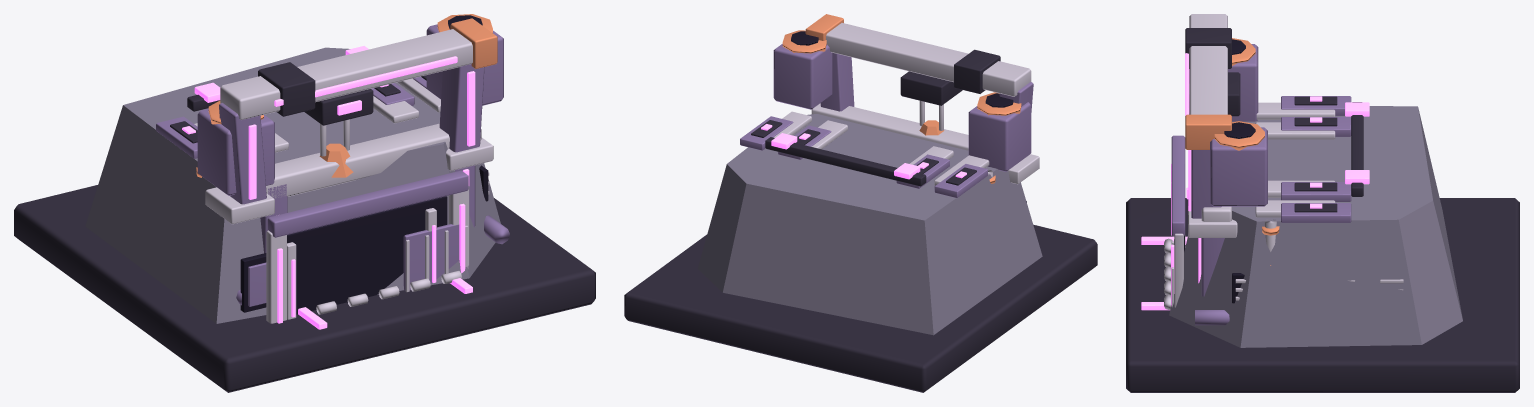
File: vesper-factory.glb
3 renders of one model, left to right at view 1: azimuth 30°, elevation 25°; view 2: azimuth 150°, elevation 25°; view 3: azimuth 270°, elevation 25°, orthographic. The views are drawn at different scales.
Visible parts, largest first — view 1: Vesper factory skid, Asymmetric assembly hall, Open fabrication gantry, Gantry leg, Vehicle bay recess, Gantry violet rail, Hot exhaust collar; view 2: Asymmetric assembly hall, Vesper factory skid, Gantry leg, Open fabrication gantry, Hot exhaust collar, Gantry violet rail, Vehicle bay recess; view 3: Asymmetric assembly hall, Vesper factory skid, Gantry leg, Open fabrication gantry, Gantry violet rail, Hot exhaust collar, Vehicle bay recess.
Boxes of the visible parts, left/top/right/bottom form: Vesper factory skid: left=14, top=62, right=595, bottom=392; Asymmetric assembly hall: left=85, top=47, right=500, bottom=323; Open fabrication gantry: left=194, top=29, right=493, bottom=323; Gantry leg: left=156, top=24, right=509, bottom=306; Vehicle bay recess: left=219, top=15, right=488, bottom=314; Gantry violet rail: left=182, top=46, right=475, bottom=329; Hot exhaust collar: left=196, top=14, right=497, bottom=177; Asymmetric assembly hall: left=697, top=114, right=1042, bottom=335; Vesper factory skid: left=624, top=49, right=1097, bottom=392; Gantry leg: left=740, top=44, right=1033, bottom=197; Open fabrication gantry: left=773, top=23, right=1039, bottom=185; Hot exhaust collar: left=782, top=14, right=1021, bottom=183; Gantry violet rail: left=761, top=124, right=966, bottom=179; Vehicle bay recess: left=791, top=31, right=1026, bottom=202; Asymmetric assembly hall: left=1169, top=106, right=1462, bottom=347; Vesper factory skid: left=1126, top=28, right=1519, bottom=392; Gantry leg: left=1171, top=44, right=1351, bottom=325; Open fabrication gantry: left=1164, top=14, right=1403, bottom=309; Gantry violet rail: left=1141, top=53, right=1369, bottom=310; Hot exhaust collar: left=1185, top=38, right=1279, bottom=265; Vehicle bay recess: left=1184, top=39, right=1255, bottom=303.
Bounding box in the file's own units: 2.86 × 1.93 × 2.86.
